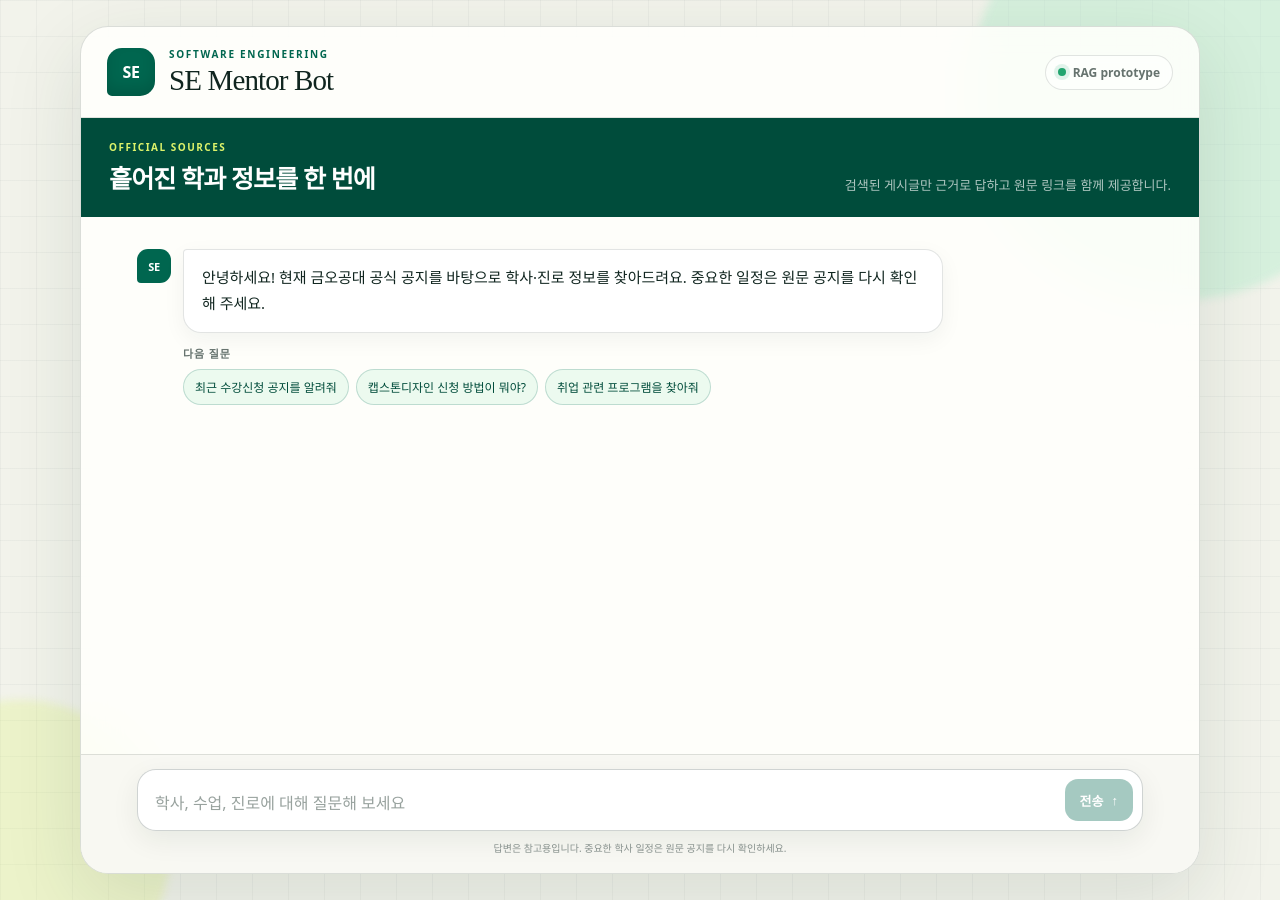
Test case: ChatMessage › renders recommendations and recent notices returned by the chat API
This screenshot has width=1280, height=900.
Type "개설강좌를 알려줘" into the text box named "질문 입력".
click(605, 802); type("개설강좌를 알려줘")  # box [155,783,1055,821]
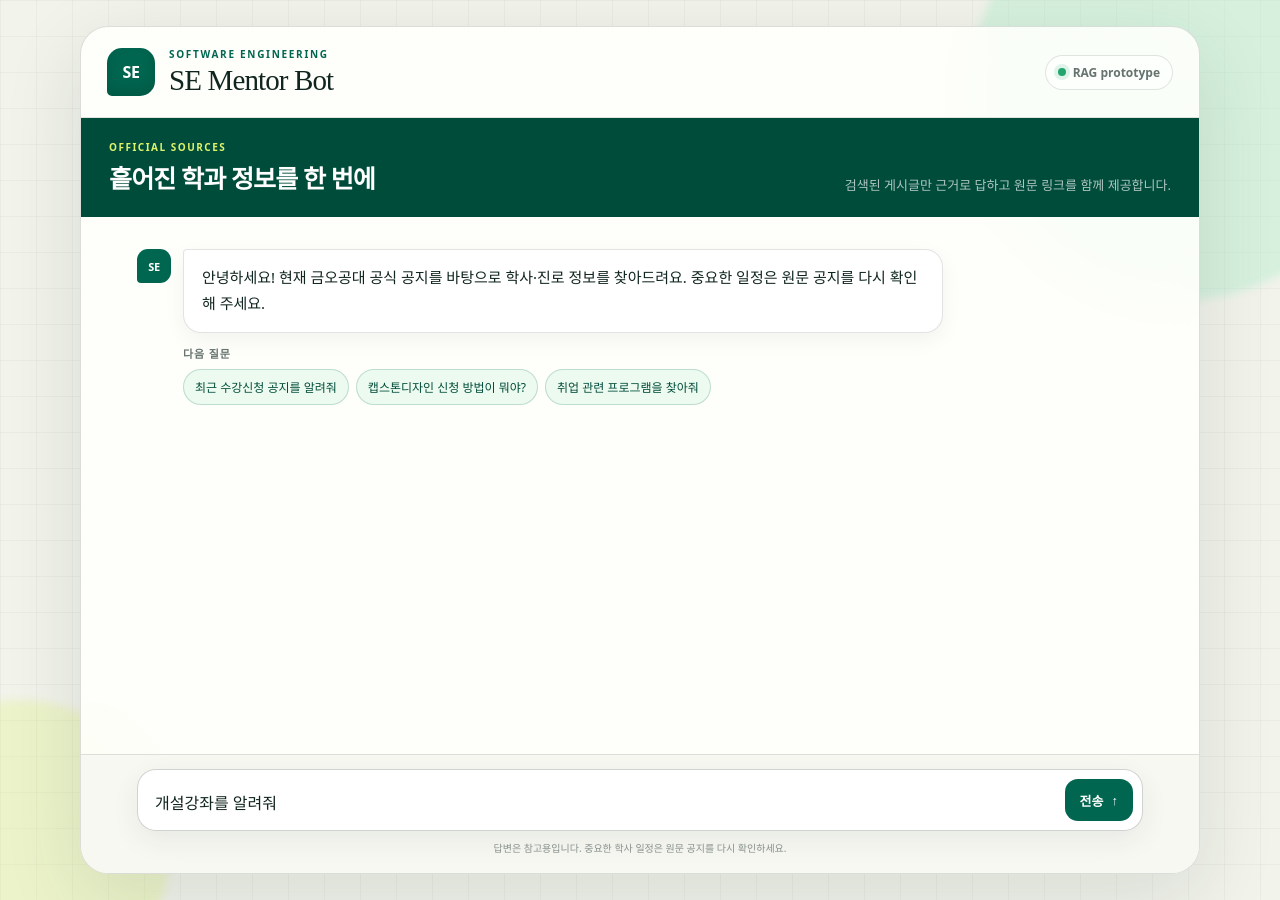
Click the button with aria-label "질문 보내기".
click(1099, 800)  # box [1065,779,1133,821]
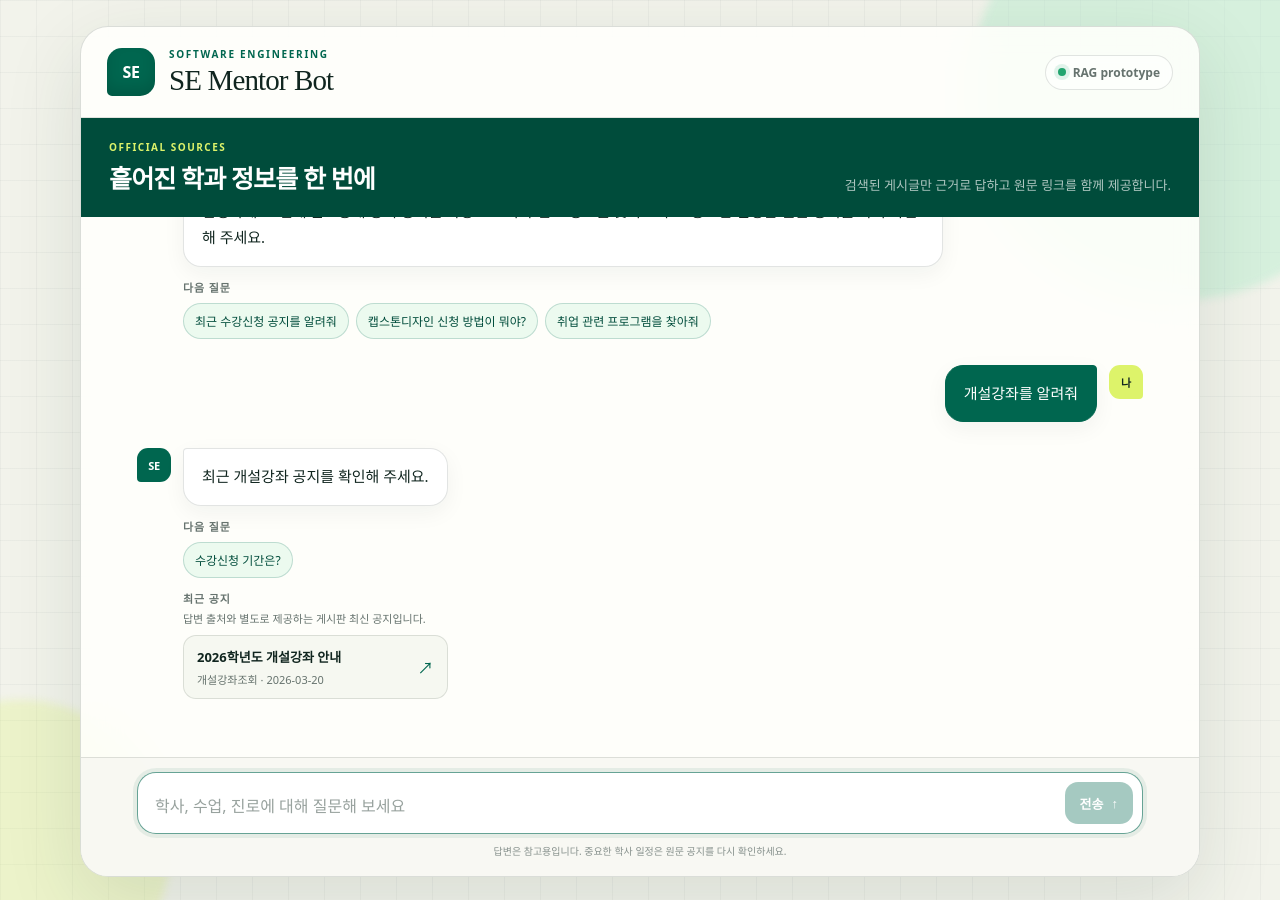
Result: the text "최근 개설강좌 공지를 확인해 주세요." is shown at [202,466,429,486]
Result: the element named "다음 질문 추천" is shown at [183,519,293,578]
Result: the element "최근 공지" is shown at [183,590,448,699]
